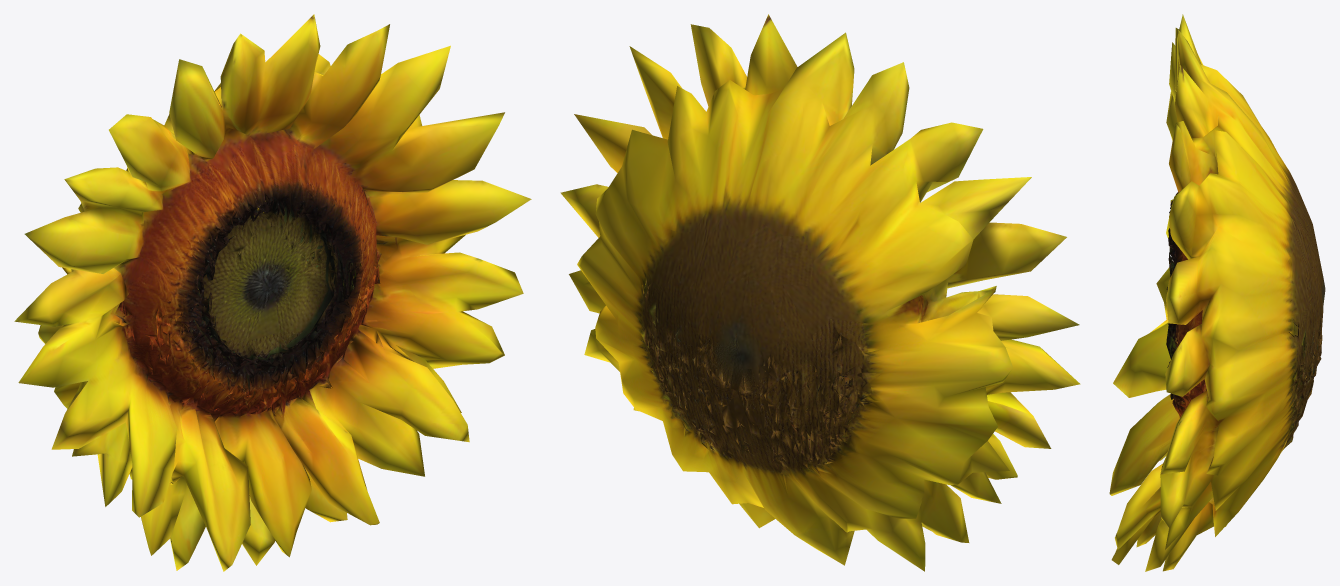
File: flower.glb
The picture shows the model from 3 angles, left to right: view 1: azimuth 30°, elevation 25°; view 2: azimuth 150°, elevation 25°; view 3: azimuth 270°, elevation 25°; orthographic projection. The views are drawn at different scales.
Size of the model in its own units: 2.03 by 2 by 0.7544.
1 material, 1 textured.
